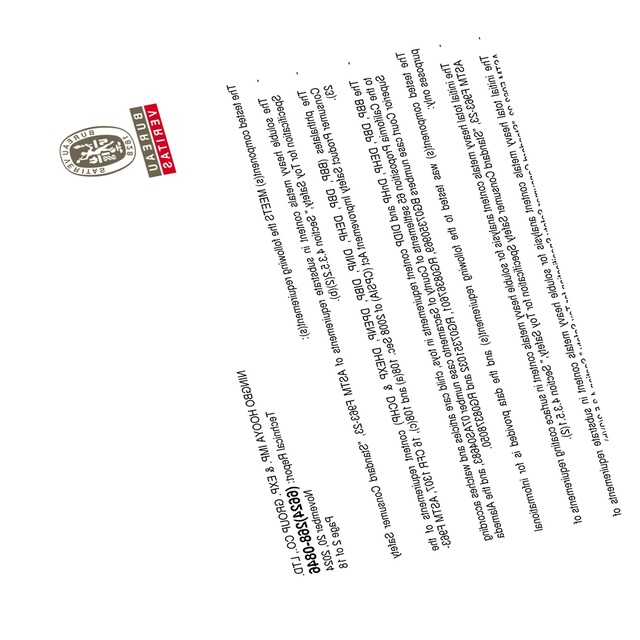bureau_veritas: (54, 101, 177, 186)
